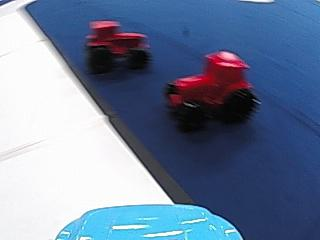Tracktor: (160, 47, 260, 128), (84, 15, 150, 71)
